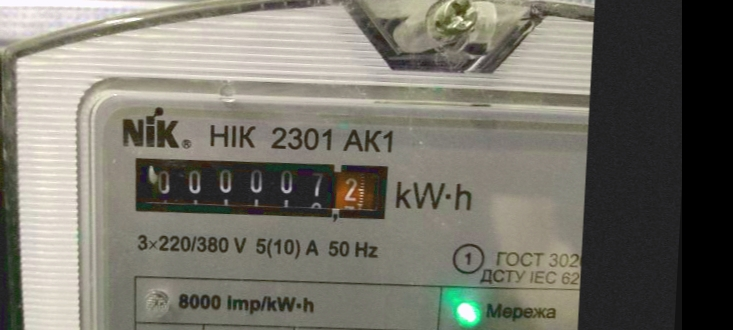0: (216, 166, 236, 194), (186, 166, 204, 195), (278, 166, 296, 195), (155, 167, 173, 194), (248, 165, 265, 193)
2: (343, 173, 360, 203)
7: (308, 169, 326, 198)
screen: (125, 143, 401, 229)
